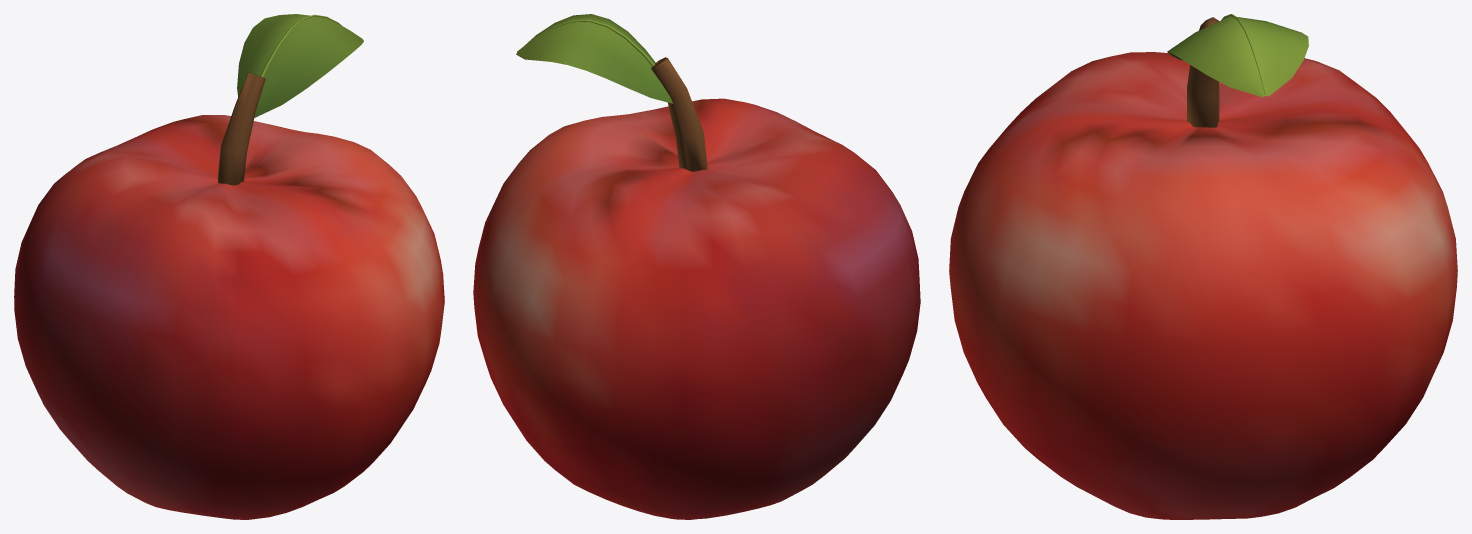
The model's file is apple_with_leaf.glb.
The picture shows the model from 3 angles, left to right: view 1: azimuth 30°, elevation 25°; view 2: azimuth 150°, elevation 25°; view 3: azimuth 270°, elevation 25°; orthographic projection. The views are drawn at different scales.
Visible parts, largest first — view 1: Plant; view 2: Plant; view 3: Plant.
Part boxes in pixels (x1=…): Plant: x1=14, y1=14, x2=444, y2=519; Plant: x1=473, y1=14, x2=920, y2=519; Plant: x1=949, y1=14, x2=1457, y2=519.
Size of the model in its own units: 0.3156 by 0.3584 by 0.3156.
